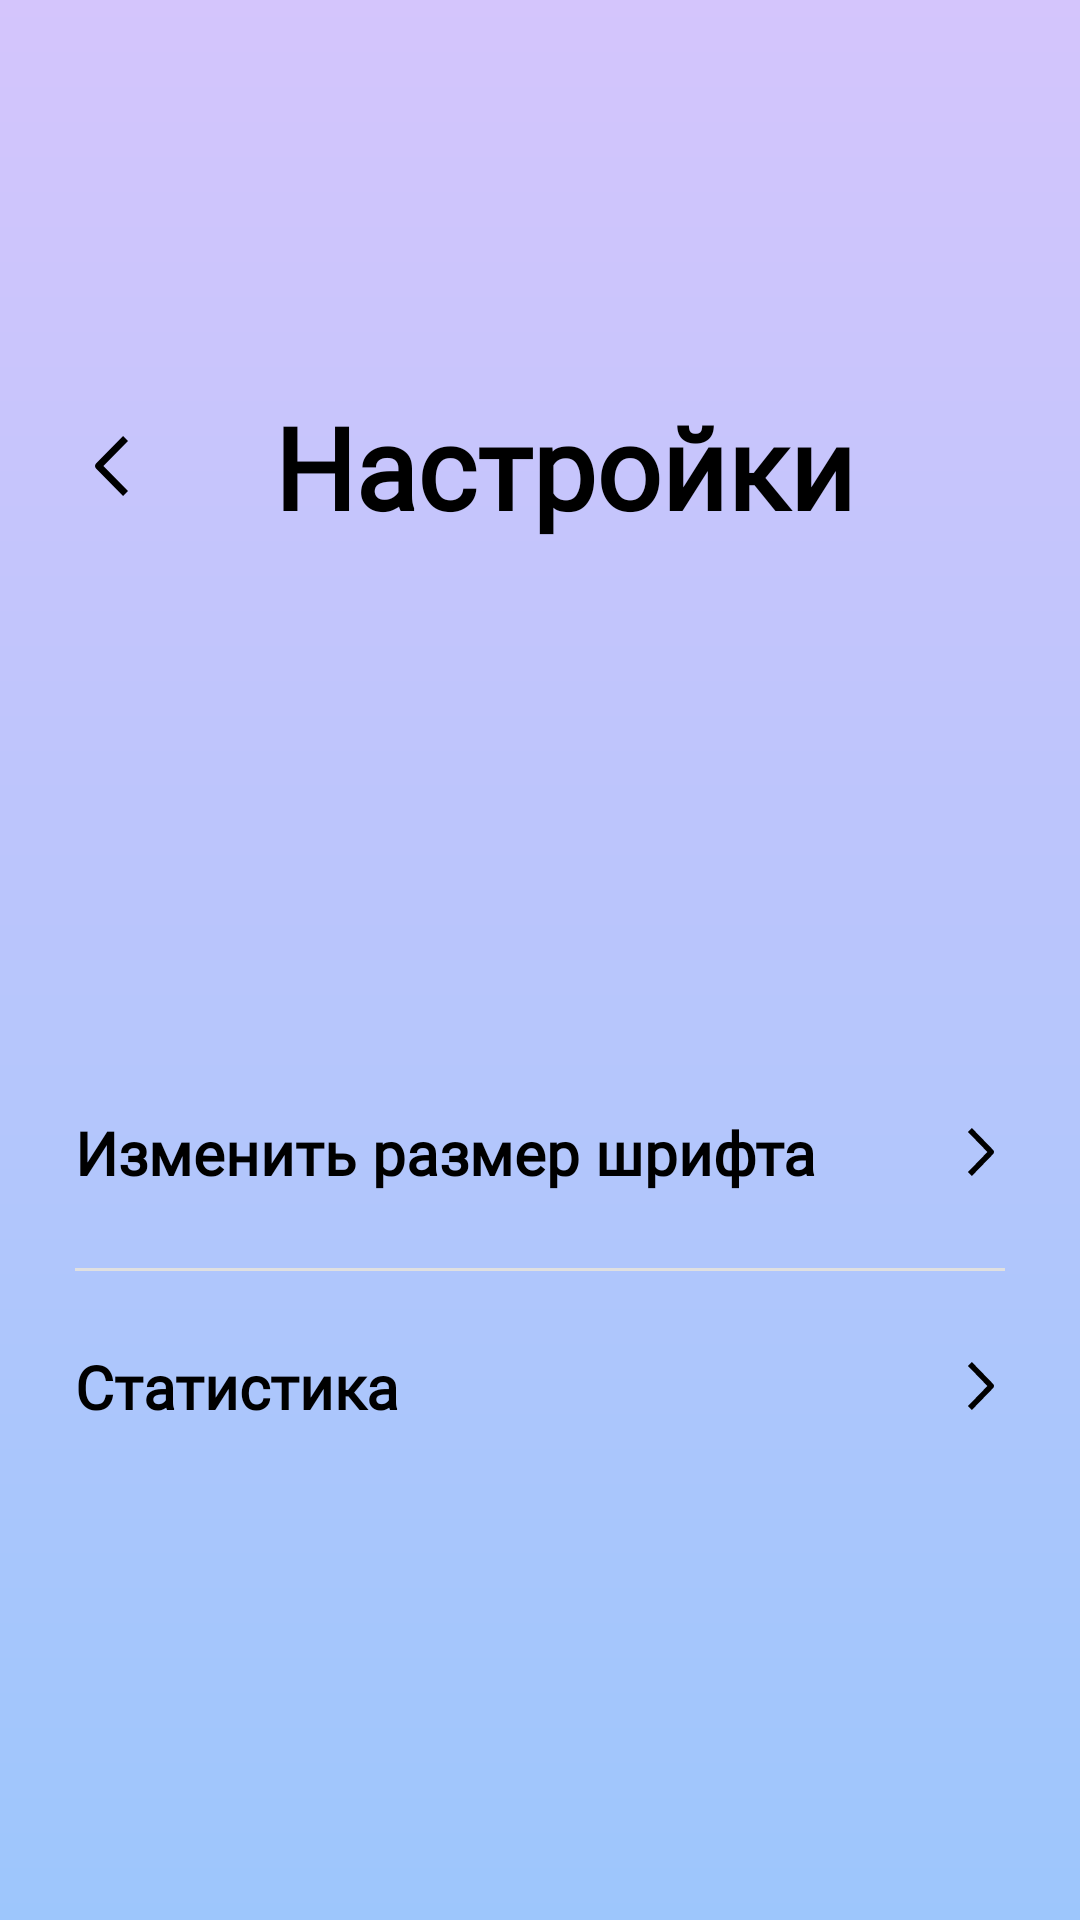

Icons on this 1080 × 1920 Android screen, each with the point to tap as [x,y]:
exit left: [111,466]
